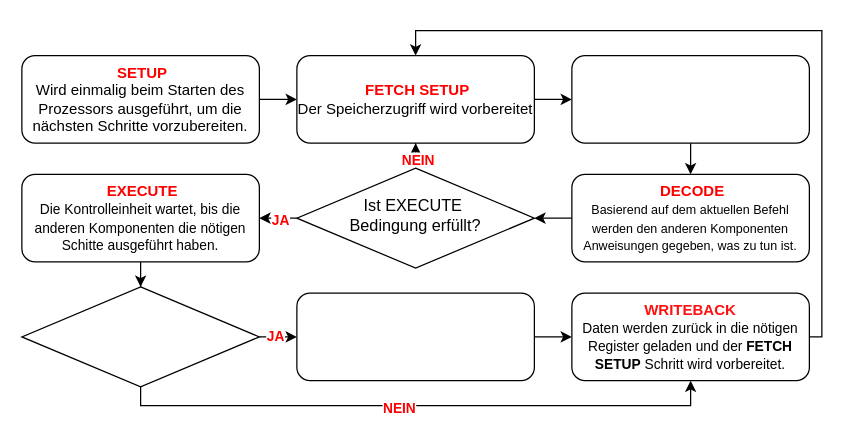
Some shapes in this 854 by 438 pixel diagram are drawn without their labels. The box of each missing label's shape, as (x1, y1, x2, y2) in pixels:
Benötigt der aktuelle Befehl Speicherzugriff?: (21, 286, 259, 387)
FETCH MEMORY ACCESS Der aktuelle Befehl wird aus dem Speicher geladen: (571, 54, 809, 143)
MEMORY ACCESS Kontrolleinheit wartet, bis Speicherzugriff abgeschlossen ist.: (296, 292, 534, 381)
